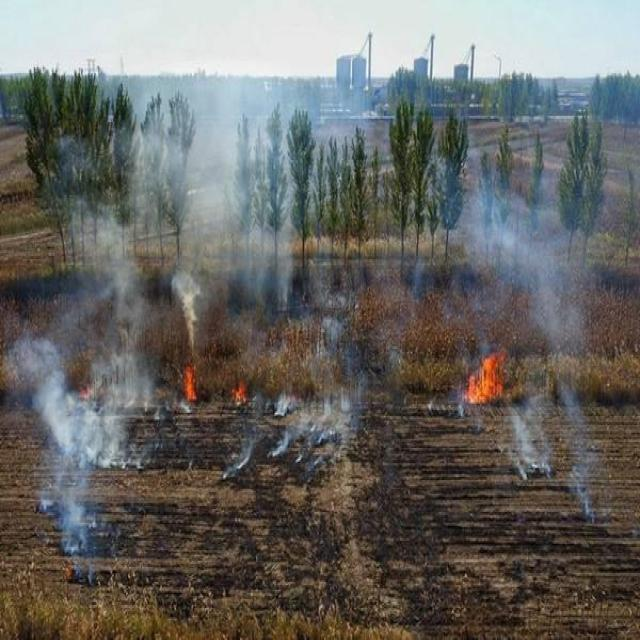fire: (462, 342, 512, 403), (180, 358, 197, 406), (72, 380, 97, 408), (230, 379, 244, 399)
smoke: (503, 232, 565, 335), (43, 382, 105, 466), (177, 274, 197, 348), (109, 259, 126, 298)
